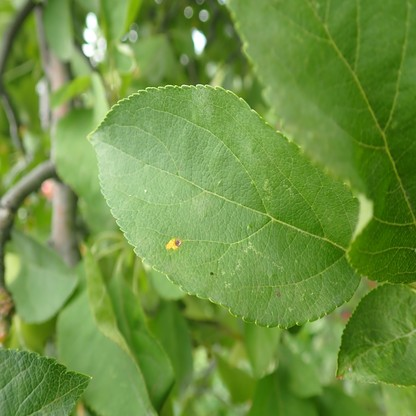rust: (165, 238, 180, 249)
